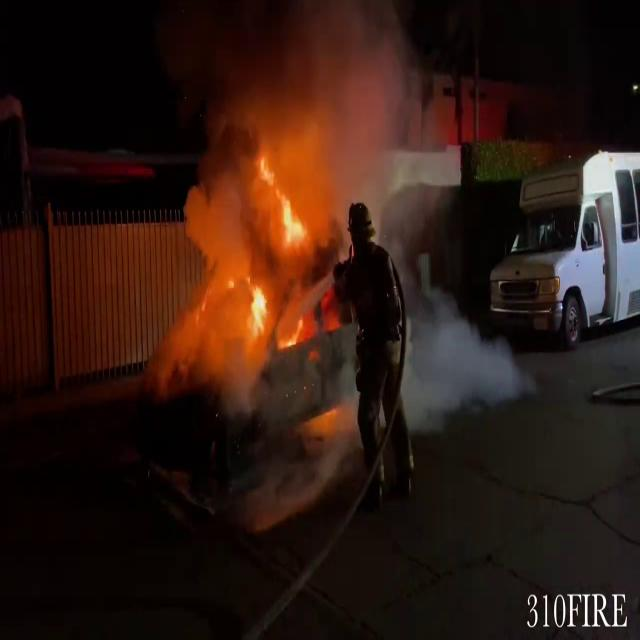Fire: (230, 144, 330, 352)
